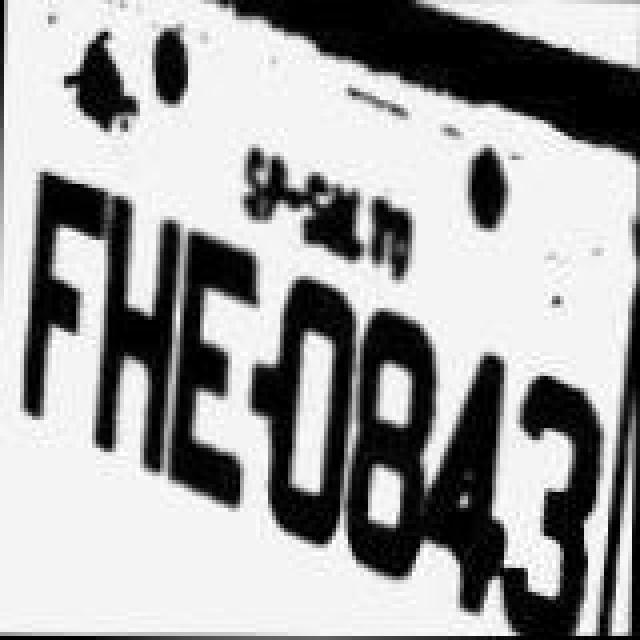3: (498, 380, 602, 636)
4: (424, 356, 512, 612)
8: (350, 310, 442, 578)
E: (172, 230, 272, 514)
F: (18, 168, 106, 424)
H: (90, 196, 186, 476)
O: (266, 282, 358, 546)
